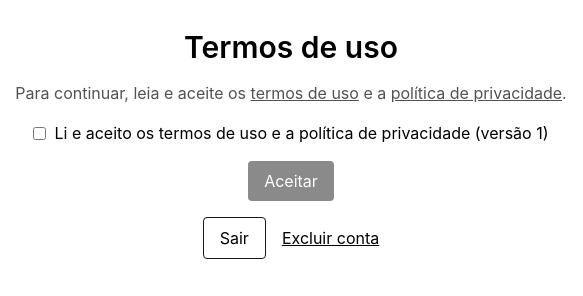
Test: AceiteDosTermos › e) 429 mostra a mensagem de muitas tentativas
Click the checkbox at (40, 133), box 34,126 -> 46,140
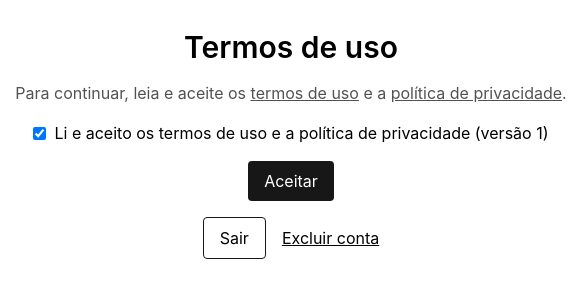
Click the button "Aceitar" at (291, 181), box 248,161 -> 334,201
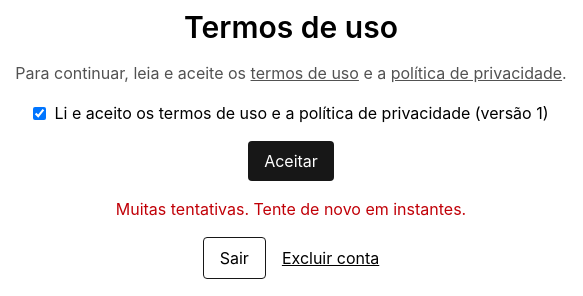
Now the message reads "Muitas tentativas. Tente de novo em instantes.", box 116,199 -> 466,219
